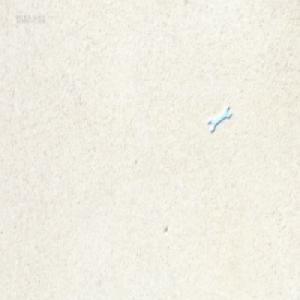Wrench: (206, 106, 231, 133)
